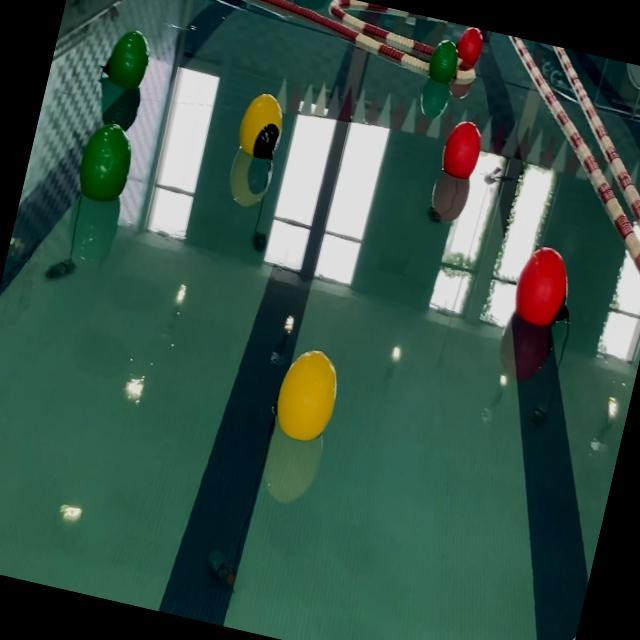buoy: (267, 343, 344, 448), (508, 240, 584, 332), (70, 118, 138, 209), (234, 87, 290, 166), (98, 25, 154, 95), (525, 580, 586, 640), (438, 117, 486, 185), (424, 36, 463, 90), (452, 24, 487, 68)
